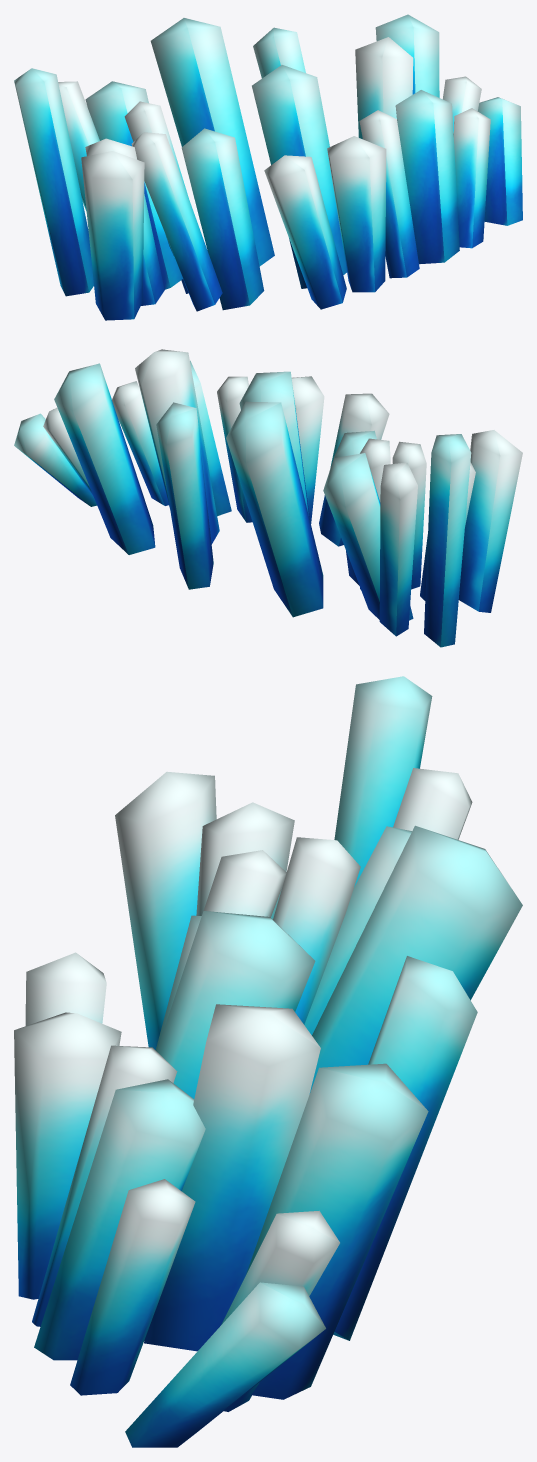
File: Sea_shanhu06.FBX
The picture shows the model from 3 angles, top to bottom: view 1: azimuth 30°, elevation 25°; view 2: azimuth 150°, elevation 25°; view 3: azimuth 270°, elevation 25°; orthographic projection. The views are drawn at different scales.
Parts seen in each view (by area): view 1: shanhu06; view 2: shanhu06; view 3: shanhu06.
Part boxes in pixels (left/top/right/bottom): shanhu06: left=14, top=14, right=522, bottom=320; shanhu06: left=14, top=349, right=522, bottom=647; shanhu06: left=14, top=676, right=522, bottom=1447.
Bounding box in the file's own units: 27.15 × 12.74 × 13.42.
